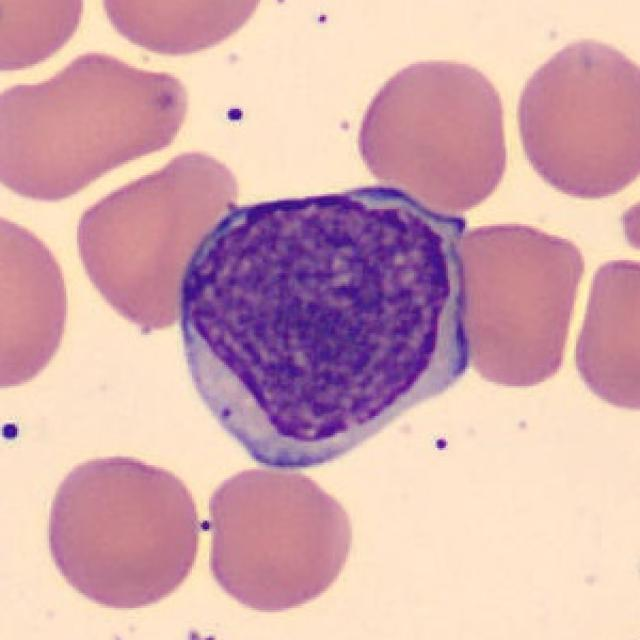White Blood Cell: (181, 189, 464, 464)
